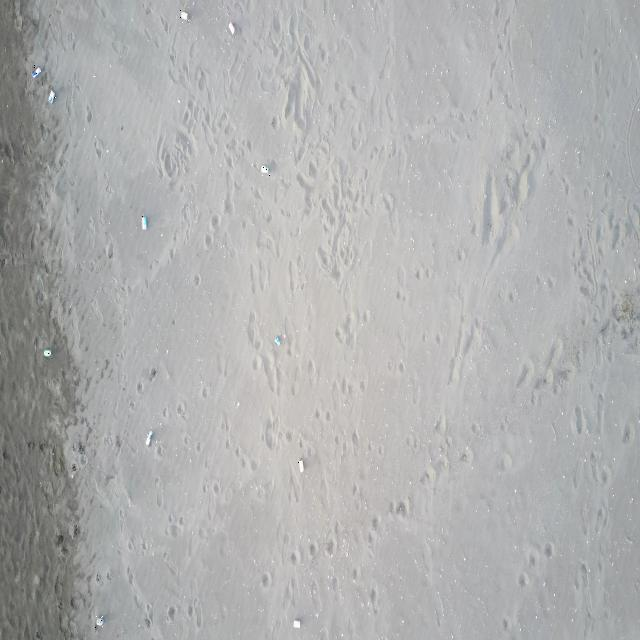Garbage: (273, 333, 284, 344), (140, 215, 147, 230), (145, 431, 152, 446), (31, 65, 40, 76), (48, 89, 55, 103), (95, 615, 103, 627), (179, 9, 187, 20), (298, 457, 303, 472), (260, 164, 268, 173), (228, 22, 235, 32), (43, 348, 51, 356), (292, 619, 300, 627), (273, 335, 280, 344)
